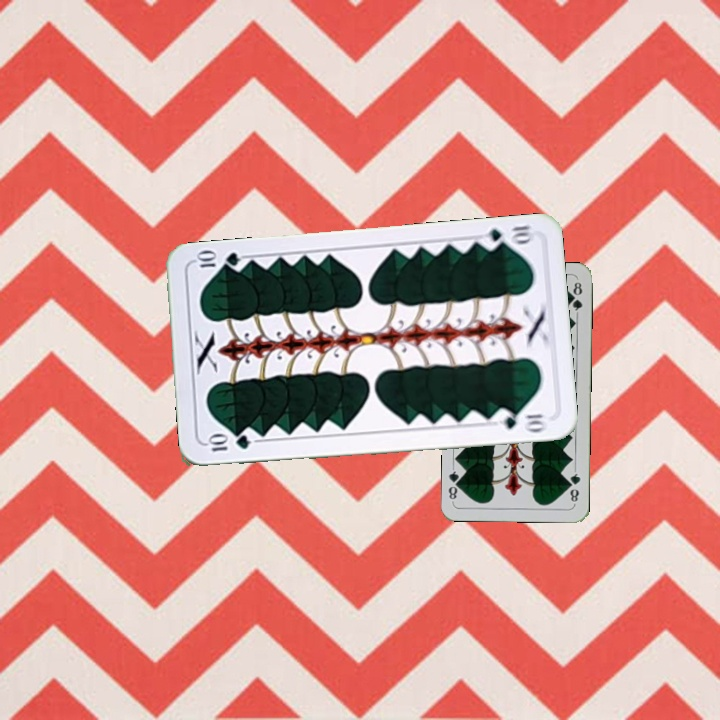G10: (478, 221, 537, 252), (203, 431, 253, 454)
G8: (565, 466, 583, 506)
